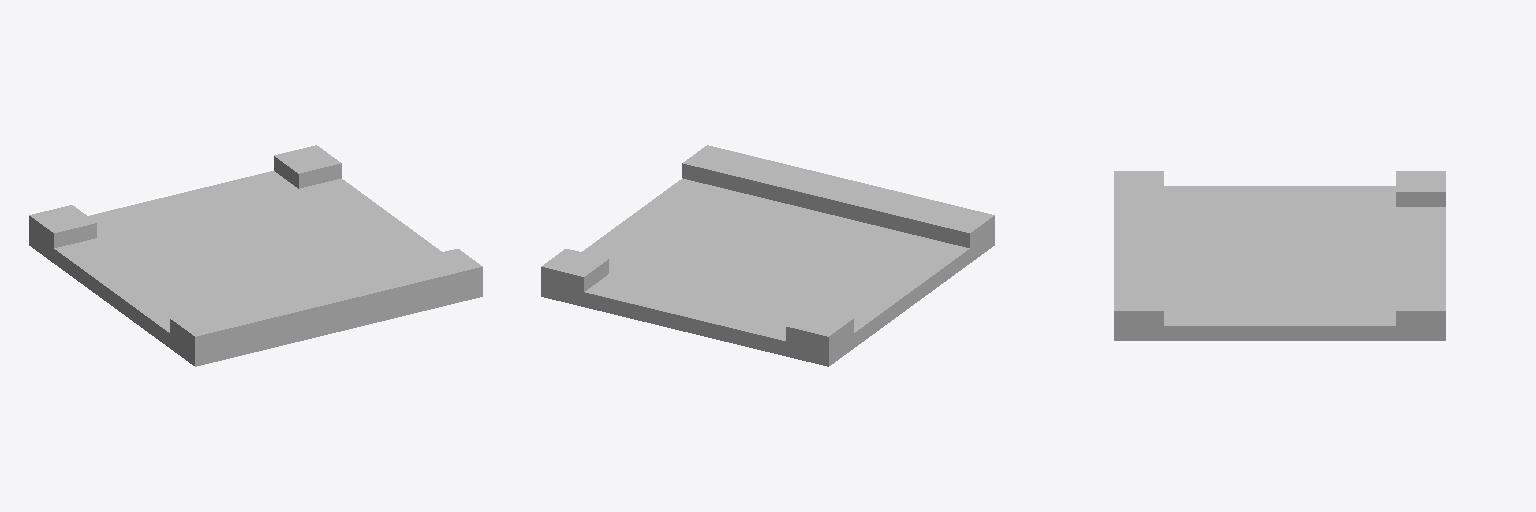
File: Street T.obj
The picture shows the model from 3 angles: view 1: azimuth 30°, elevation 25°; view 2: azimuth 150°, elevation 25°; view 3: azimuth 270°, elevation 25°; orthographic projection.
Parts seen in each view (by area): view 1: object 1; view 2: object 1; view 3: object 1.
Part boxes in pixels (left/top/right/bottom): object 1: left=29, top=145, right=482, bottom=366; object 1: left=541, top=145, right=994, bottom=366; object 1: left=1114, top=171, right=1445, bottom=340.
Bounding box in the file's own units: 4 × 0.4 × 4.